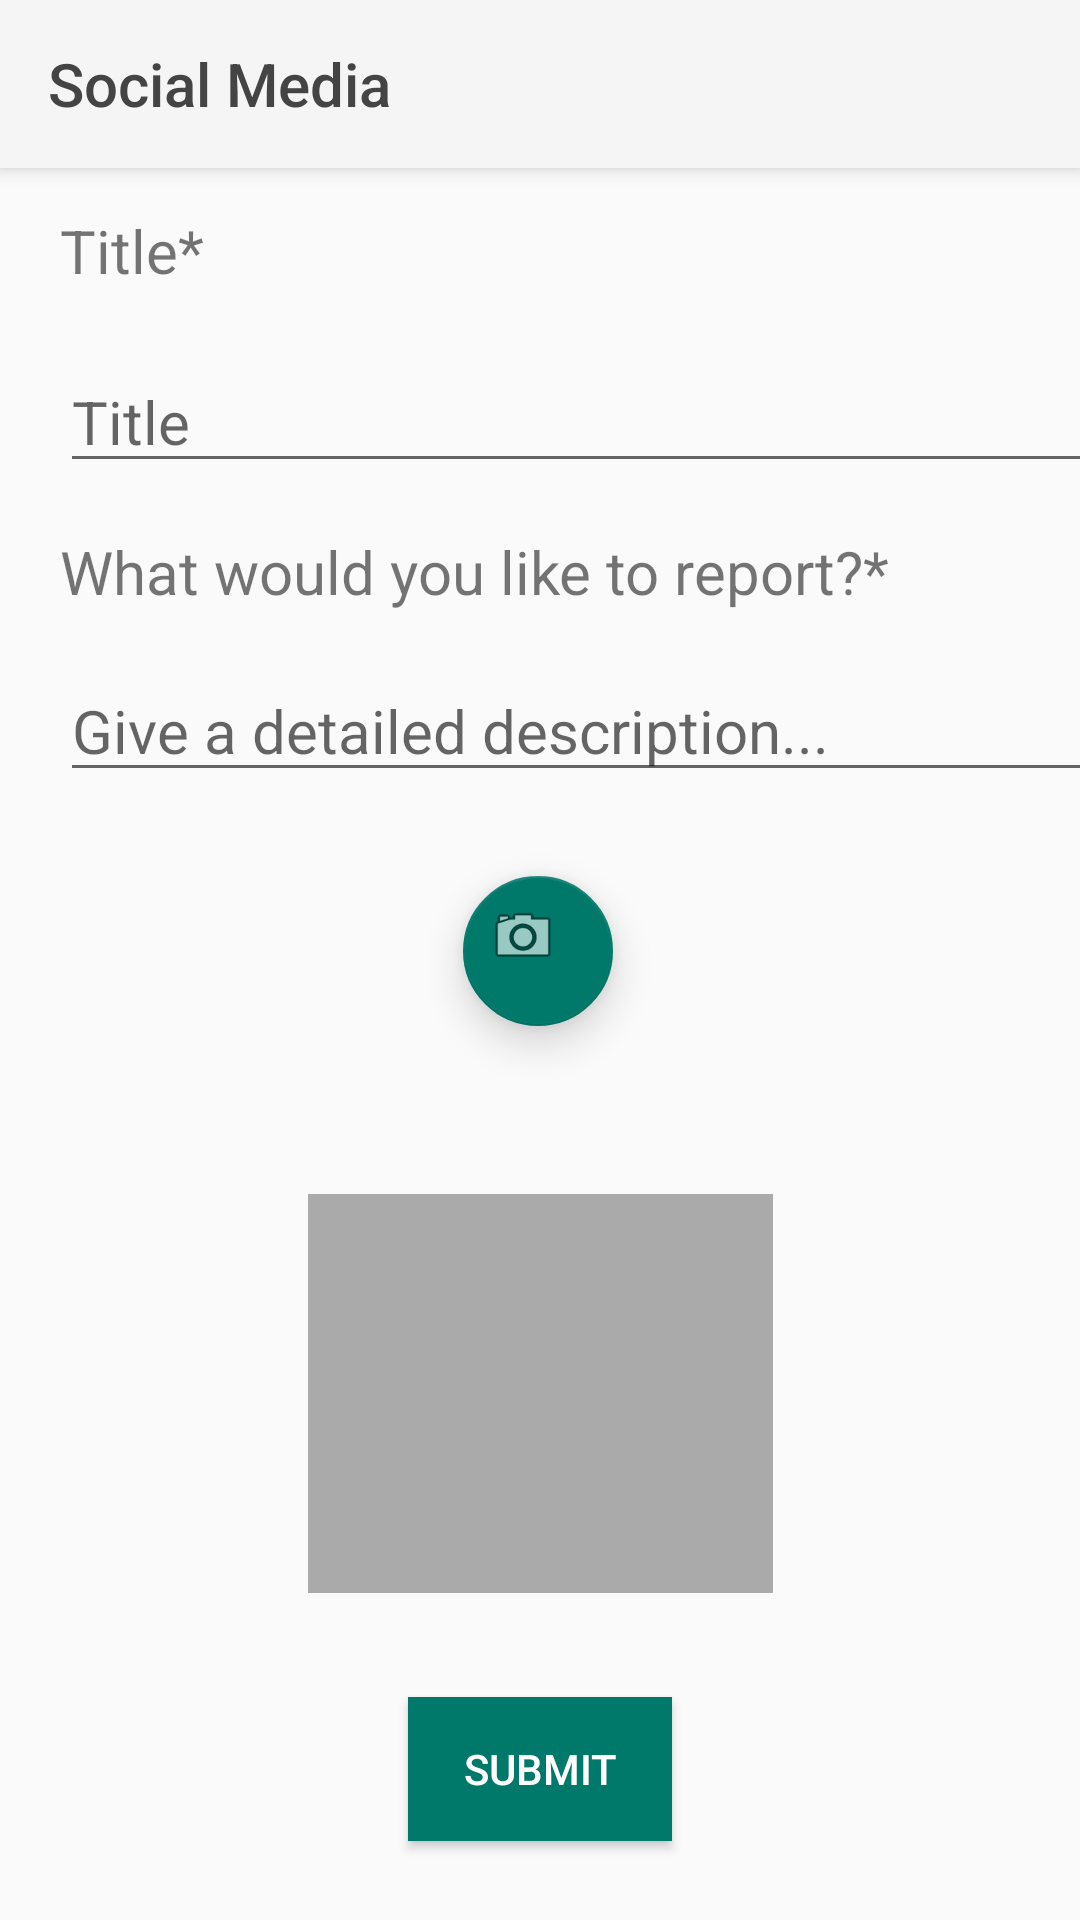

Named icons in this screenshot (1080px x 1920px) and their centers, point (x, y):
camera: point (538, 951)
